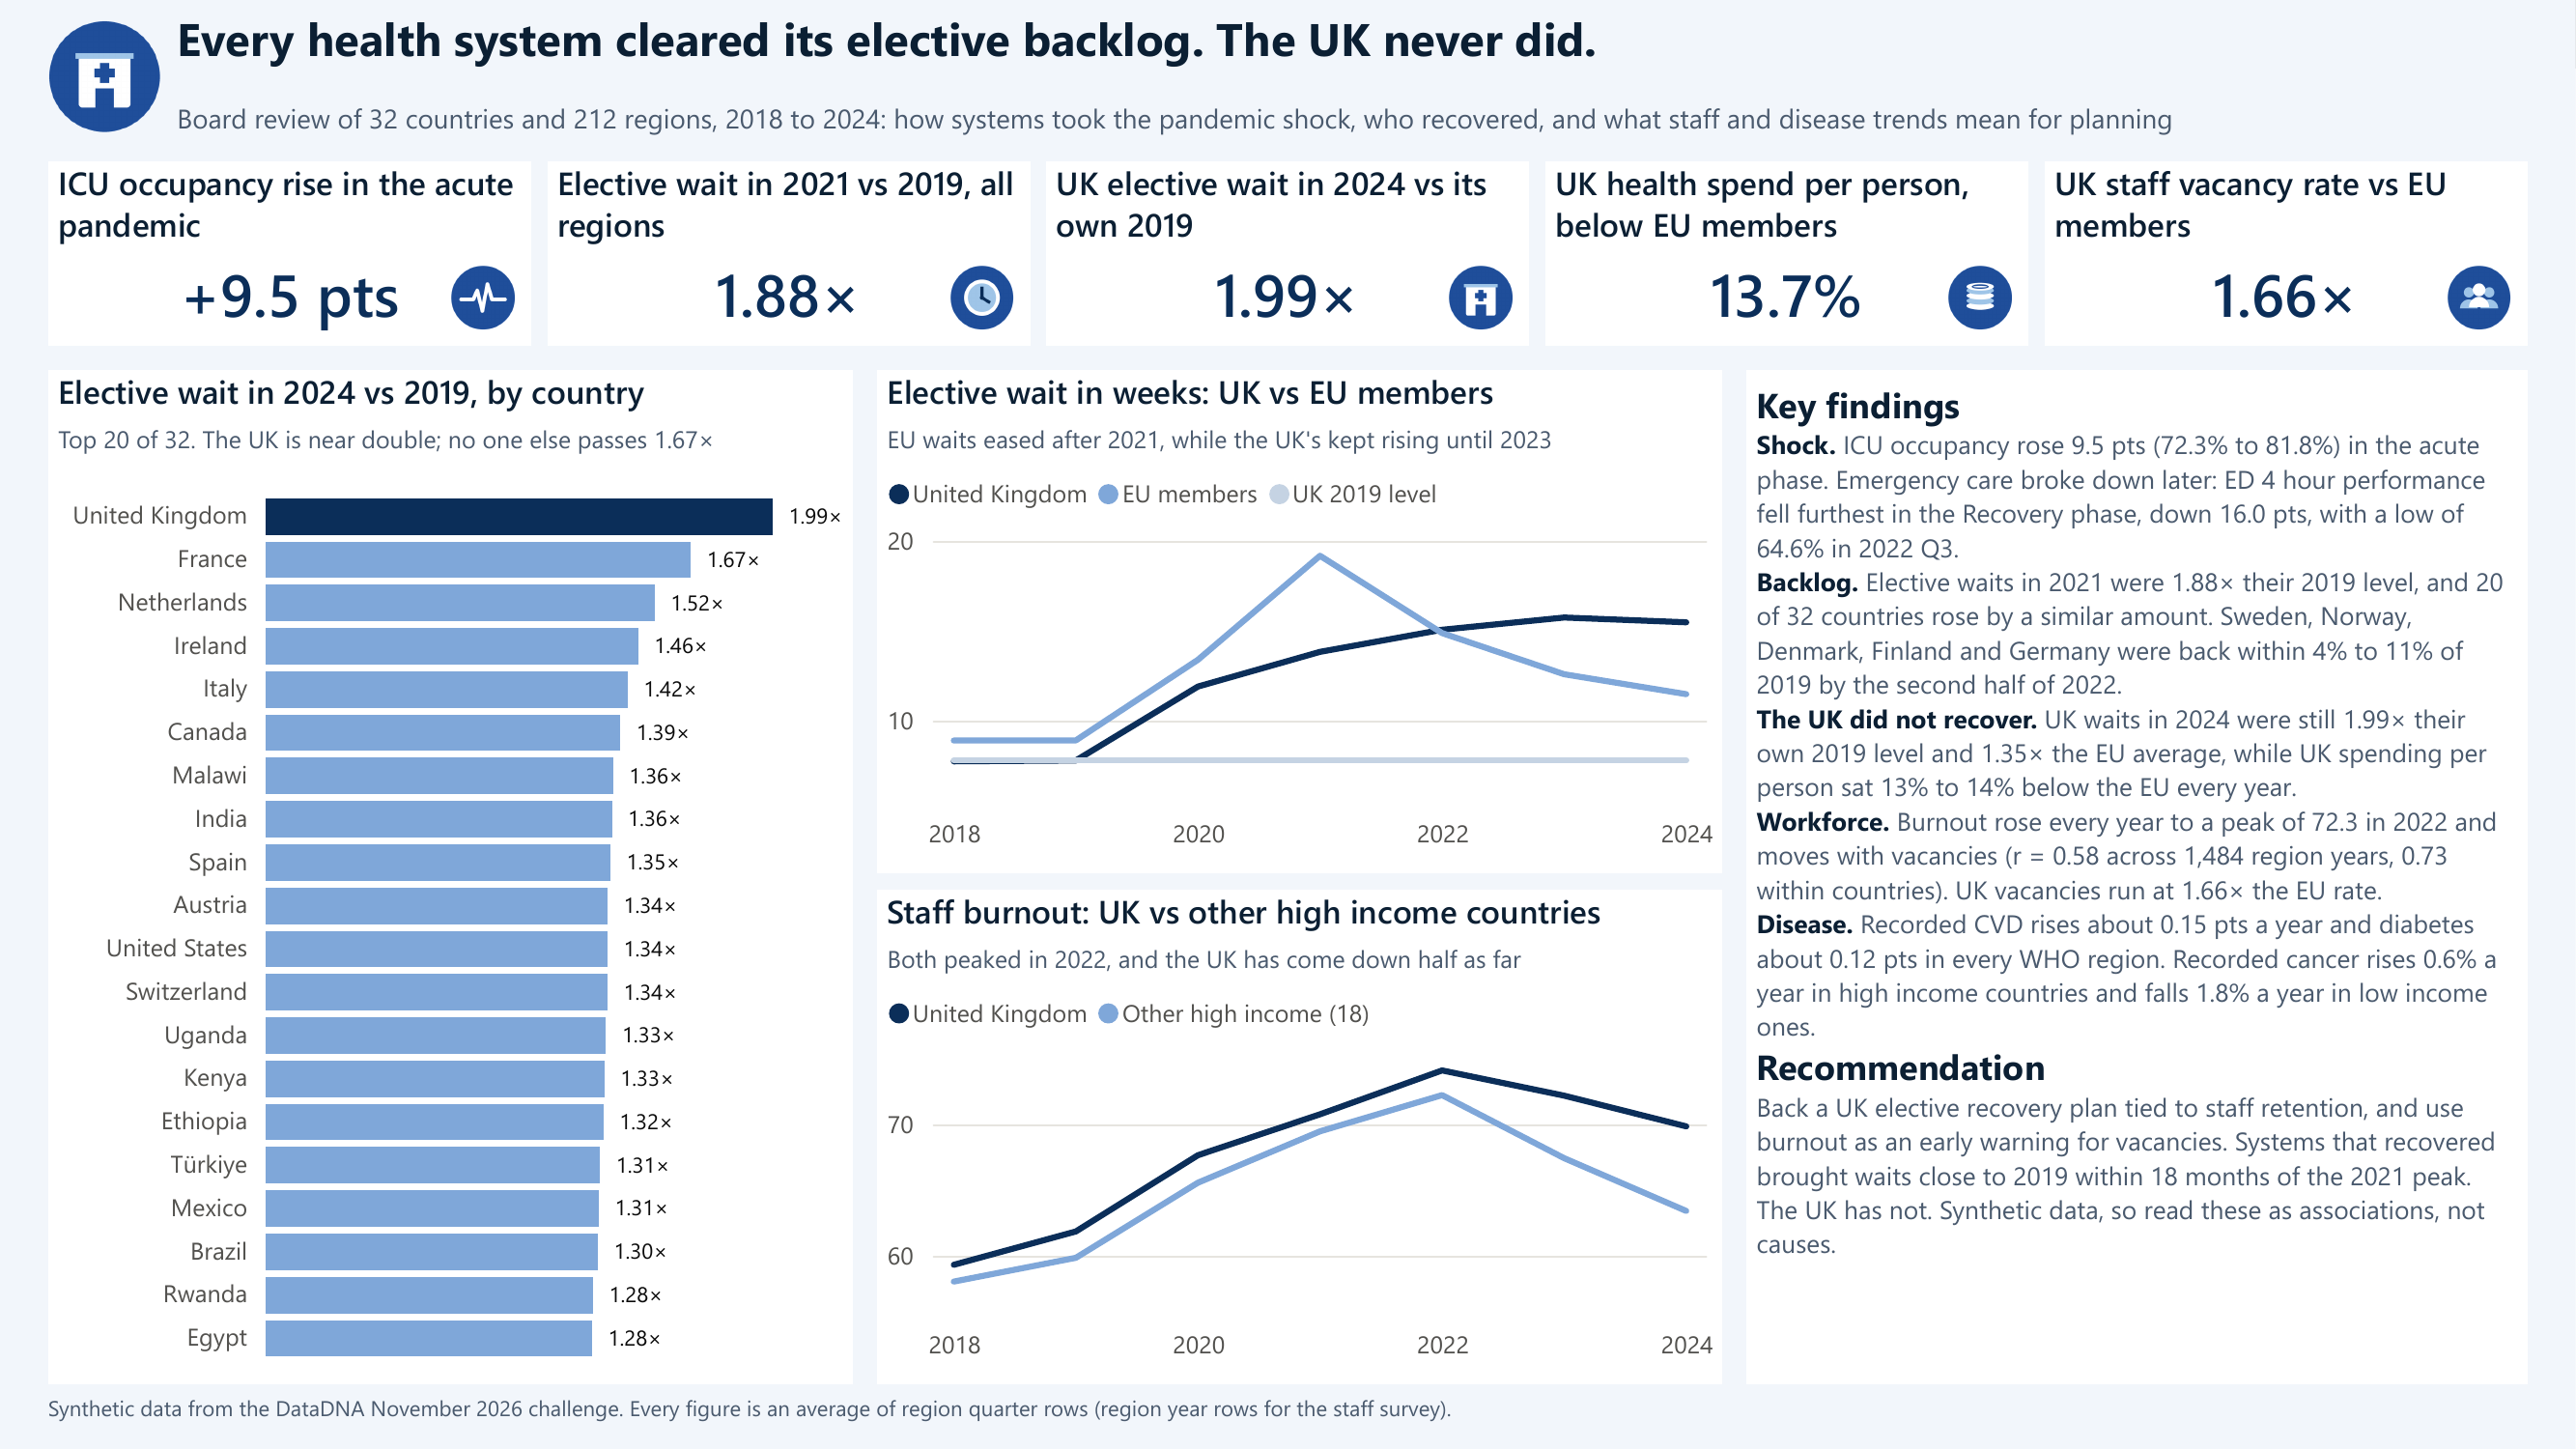

The page's visual inventory and layout, read from the dashboard file:
{"tool":"powerbi","page":{"name":"Executive Summary","canvas":[1280,720],"ordinal":0},"visuals":[{"type":"image","box":[24,10,56,56],"z":1000},{"type":"textbox","box":[88,4,1168,46],"z":1001},{"type":"textbox","box":[88,50,1168,26],"z":1002},{"type":"textbox","box":[24,690,1232,28],"z":1003},{"type":"card","title":"ICU occupancy rise in the acute pandemic","fields":{"Values":["_Measures.ICU Change Acute vs Pre"]},"box":[24,80,240,92],"z":1004},{"type":"image","box":[224,132,32,32],"z":1005},{"type":"card","title":"Elective wait in 2021 vs 2019, all regions","fields":{"Values":["_Measures.Wait Ratio 2021 to 2019"]},"box":[272,80,240,92],"z":1006},{"type":"image","box":[472,132,32,32],"z":1007},{"type":"card","title":"UK elective wait in 2024 vs its own 2019","fields":{"Values":["_Measures.UK Wait 2024 vs UK 2019"]},"box":[520,80,240,92],"z":1008},{"type":"image","box":[720,132,32,32],"z":1009},{"type":"card","title":"UK health spend per person, below EU members","fields":{"Values":["_Measures.UK Spend Gap to EU %"]},"box":[768,80,240,92],"z":1010},{"type":"image","box":[968,132,32,32],"z":1011},{"type":"card","title":"UK staff vacancy rate vs EU members","fields":{"Values":["_Measures.UK to EU Vacancy Ratio"]},"box":[1016,80,240,92],"z":1012},{"type":"image","box":[1216,132,32,32],"z":1013},{"type":"barChart","title":"Elective wait in 2024 vs 2019, by country","fields":{"Category":["dim_country.country_name"],"Y":["_Measures.Wait Ratio 2024 Chart"]},"box":[24,184,400,504],"z":1014},{"type":"lineChart","title":"Elective wait in weeks: UK vs EU members","fields":{"Category":["dim_date.year"],"Y":["_Measures.UK Wait","_Measures.EU Wait","_Measures.UK Wait 2019 Level"]},"box":[436,184,420,250],"z":1015},{"type":"lineChart","title":"Staff burnout: UK vs other high income countries","fields":{"Category":["dim_date.year"],"Y":["_Measures.UK Burnout","_Measures.Other High Income Burnout"]},"box":[436,442,420,246],"z":1016},{"type":"textbox","box":[868,184,388,504],"z":1017}]}

Visuals, with their boxes in screenshot pixels (x1, y1, x2, y2), scaled from the page's 1280x720 canvas onto the 2576x1449 screenshot:
image: (left=48, top=20, right=161, bottom=133)
textbox: (left=177, top=8, right=2528, bottom=100)
textbox: (left=177, top=100, right=2528, bottom=153)
textbox: (left=48, top=1389, right=2528, bottom=1445)
"ICU occupancy rise in the acute pandemic" card: (left=48, top=161, right=531, bottom=346)
image: (left=451, top=266, right=515, bottom=330)
"Elective wait in 2021 vs 2019, all regions" card: (left=548, top=161, right=1031, bottom=346)
image: (left=949, top=266, right=1014, bottom=330)
"UK elective wait in 2024 vs its own 2019" card: (left=1046, top=161, right=1530, bottom=346)
image: (left=1449, top=266, right=1514, bottom=330)
"UK health spend per person, below EU members" card: (left=1545, top=161, right=2028, bottom=346)
image: (left=1948, top=266, right=2013, bottom=330)
"UK staff vacancy rate vs EU members" card: (left=2045, top=161, right=2528, bottom=346)
image: (left=2448, top=266, right=2511, bottom=330)
"Elective wait in 2024 vs 2019, by country" barChart: (left=48, top=370, right=853, bottom=1384)
"Elective wait in weeks: UK vs EU members" lineChart: (left=877, top=370, right=1723, bottom=873)
"Staff burnout: UK vs other high income countries" lineChart: (left=877, top=890, right=1723, bottom=1384)
textbox: (left=1747, top=370, right=2528, bottom=1384)
